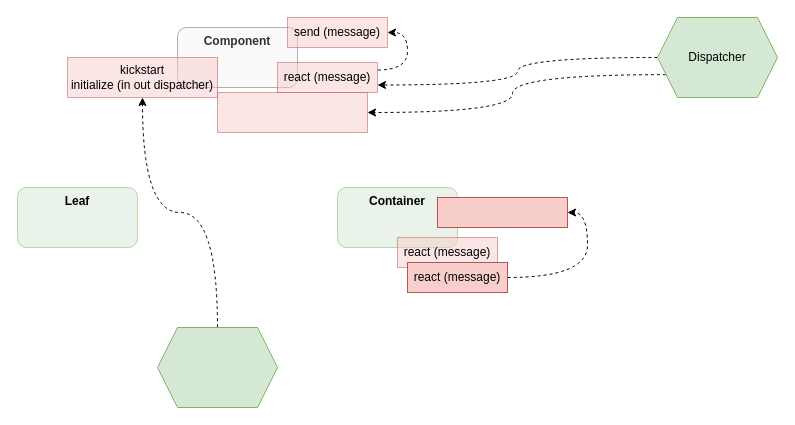
Image size: 795x425. Some labels were removed from this diagram. The box of each missing label's shape, as (x1, y1, x2, y2) in pixels:
get-receivers -> list: (436, 196, 568, 228)
ready? -> Boolean busy? -> Boolean: (216, 92, 368, 132)
Startup: (156, 326, 278, 408)
